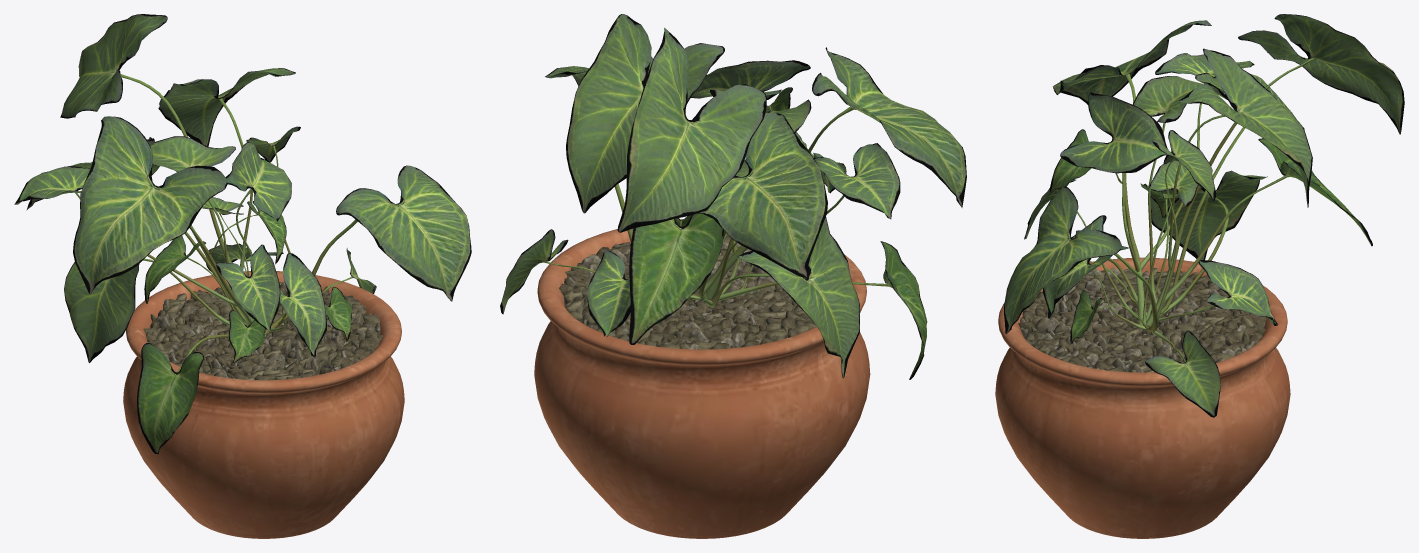
Rendered from potted_plant_02.glb.
3 renders of one model, left to right at view 1: azimuth 30°, elevation 25°; view 2: azimuth 150°, elevation 25°; view 3: azimuth 270°, elevation 25°, orthographic. The views are drawn at different scales.
Parts seen in each view (by area): view 1: potted_plant_02_leaves, potted_plant_02_pot; view 2: potted_plant_02_leaves, potted_plant_02_pot; view 3: potted_plant_02_pot, potted_plant_02_leaves.
Part boxes in pixels (x1,y1,x2,y2): potted_plant_02_leaves: [14, 14, 471, 454]; potted_plant_02_pot: [123, 271, 404, 538]; potted_plant_02_leaves: [500, 14, 966, 379]; potted_plant_02_pot: [534, 219, 870, 538]; potted_plant_02_pot: [995, 257, 1290, 538]; potted_plant_02_leaves: [1004, 14, 1404, 417].
Size of the model in its own units: 0.7012 by 0.8412 by 0.6574.
Materials: 2 (2 with a texture image).
